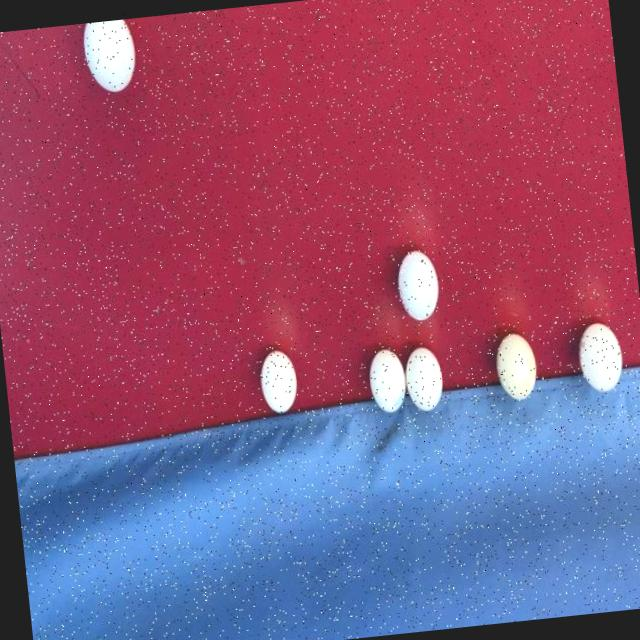ping-pong-ball: (76, 18, 139, 98), (571, 316, 625, 396), (390, 246, 442, 326), (399, 336, 447, 416), (489, 328, 538, 406), (362, 344, 408, 420), (253, 348, 299, 416)
